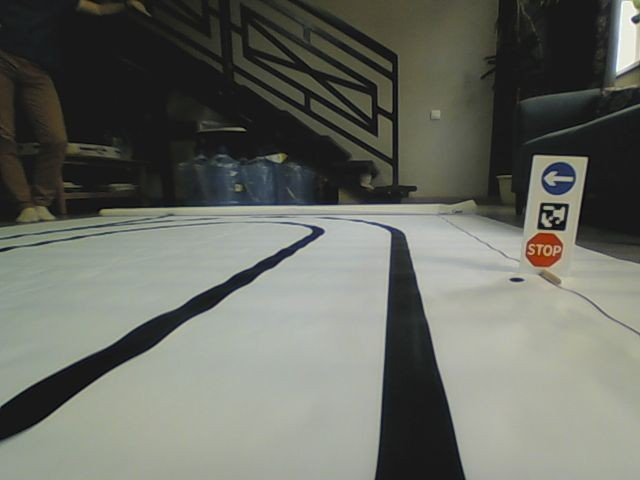Stop: (524, 231, 564, 269)
